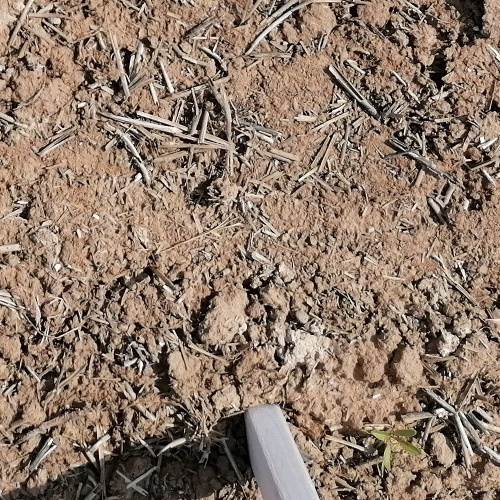beet: (370, 429, 420, 470)
